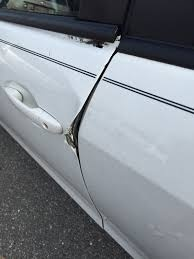Dent: (62, 87, 91, 160), (1, 43, 38, 78)
